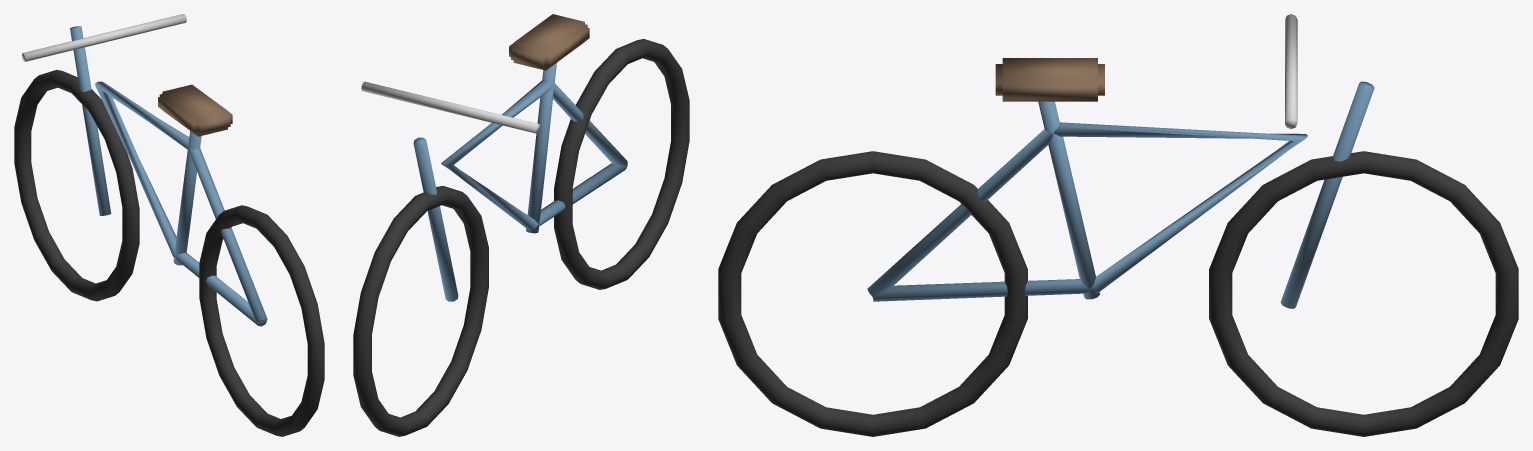
Rendered from old_bicycle.glb.
The picture shows the model from 3 angles, left to right: view 1: azimuth 30°, elevation 25°; view 2: azimuth 150°, elevation 25°; view 3: azimuth 270°, elevation 25°; orthographic projection. The views are drawn at different scales.
Parts seen in each view (by area): view 1: Wheel_-0.54, Wheel_0.54, FrameMain, Saddle, Fork, Handlebar, SeatTube; view 2: Wheel_0.54, Wheel_-0.54, FrameMain, Saddle, Fork, SeatTube, Handlebar; view 3: Wheel_0.54, Wheel_-0.54, FrameMain, Saddle, Fork, SeatTube, Handlebar.
Boxes of the visible parts, left/top/right/bottom form: Wheel_-0.54: left=199, top=205, right=324, bottom=436; Wheel_0.54: left=14, top=69, right=139, bottom=301; FrameMain: left=95, top=81, right=267, bottom=326; Saddle: left=158, top=84, right=232, bottom=136; Fork: left=70, top=26, right=111, bottom=215; Handlebar: left=22, top=14, right=186, bottom=61; SeatTube: left=173, top=131, right=201, bottom=265; Wheel_0.54: left=353, top=186, right=488, bottom=436; Wheel_-0.54: left=554, top=39, right=689, bottom=289; FrameMain: left=441, top=80, right=627, bottom=230; Saddle: left=509, top=14, right=589, bottom=70; Fork: left=413, top=137, right=458, bottom=301; SeatTube: left=526, top=63, right=556, bottom=233; Handlebar: left=361, top=81, right=540, bottom=133; Wheel_0.54: left=1209, top=151, right=1518, bottom=436; Wheel_-0.54: left=718, top=151, right=1027, bottom=436; FrameMain: left=867, top=122, right=1307, bottom=301; Saddle: left=995, top=58, right=1104, bottom=101; Fork: left=1280, top=81, right=1374, bottom=308; SeatTube: left=1038, top=101, right=1099, bottom=299; Handlebar: left=1285, top=14, right=1297, bottom=128.
Bounding box in the file's own units: 0.54 × 0.9 × 1.76.
